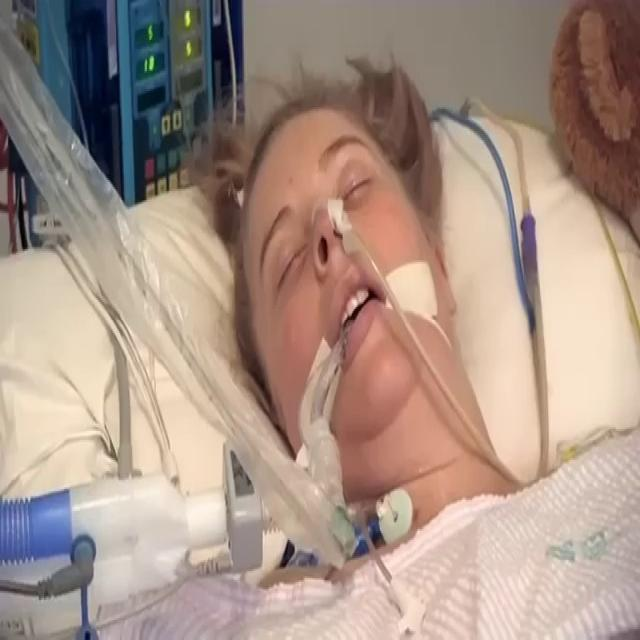monitor: (65, 0, 241, 207)
patient: (216, 49, 637, 567)
